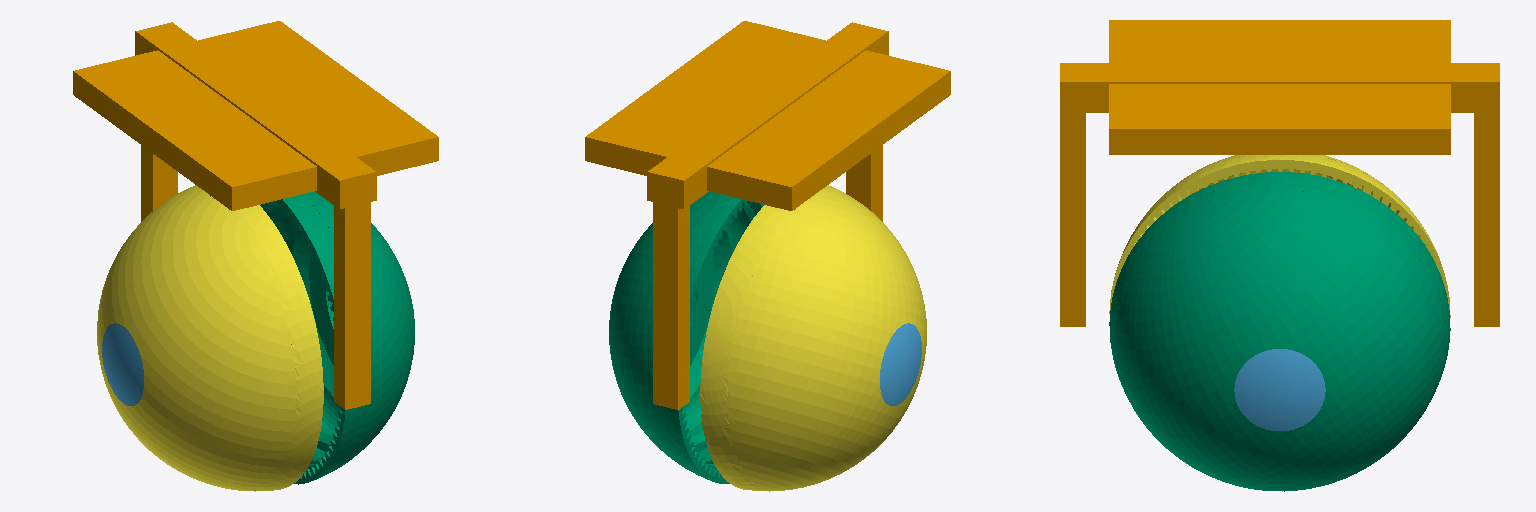
robot.urdf — active_spherical_wheel_approximate:
<?xml version='1.0' encoding='utf-8'?>
<robot name="active_spherical_wheel_approximate">
  <!--Free root fork. URDF preserves geometry, masses and 3 revolutes; moving belt surface control requires the MuJoCo simulator.-->
  <link name="fork">
    <inertial>
      <origin xyz="0 0 0.173306340455" rpy="0 0 0" />
      <mass value="1" />
      <inertia ixx="0.00721843935102" iyy="0.00296529048817" izz="0.00860039728923" ixy="0" ixz="0" iyz="0" />
    </inertial>
    <visual name="fork_arm_left">
      <origin xyz="0 0.145 0.0925" rpy="0 0 0" />
      <geometry>
        <box size="0.022 0.018 0.185" />
      </geometry>
    </visual>
    <collision name="fork_arm_left">
      <origin xyz="0 0.145 0.0925" rpy="0 0 0" />
      <geometry>
        <box size="0.022 0.018 0.185" />
      </geometry>
    </collision>
    <visual name="fork_arm_right">
      <origin xyz="0 -0.145 0.0925" rpy="0 0 0" />
      <geometry>
        <box size="0.022 0.018 0.185" />
      </geometry>
    </visual>
    <collision name="fork_arm_right">
      <origin xyz="0 -0.145 0.0925" rpy="0 0 0" />
      <geometry>
        <box size="0.022 0.018 0.185" />
      </geometry>
    </collision>
    <visual name="fork_bridge">
      <origin xyz="0 0 0.18" rpy="0 0 0" />
      <geometry>
        <box size="0.032 0.308 0.024" />
      </geometry>
    </visual>
    <collision name="fork_bridge">
      <origin xyz="0 0 0.18" rpy="0 0 0" />
      <geometry>
        <box size="0.032 0.308 0.024" />
      </geometry>
    </collision>
    <visual name="platform">
      <origin xyz="0 0 0.18" rpy="0 0 0" />
      <geometry>
        <box size="0.18 0.24 0.02" />
      </geometry>
    </visual>
    <collision name="platform">
      <origin xyz="0 0 0.18" rpy="0 0 0" />
      <geometry>
        <box size="0.18 0.24 0.02" />
      </geometry>
    </collision>
  </link>
  <link name="carrier">
    <inertial>
      <origin xyz="0 0 0" rpy="0 0 0" />
      <mass value="0.36" />
      <inertia ixx="0.000295253333298" iyy="0.00194542575563" izz="0.00194542575563" ixy="0" ixz="0" iyz="0" />
    </inertial>
    <visual name="belt_A">
      <geometry>
        <mesh filename="meshes/belt_A.obj" scale="1 1 1" />
      </geometry>
    </visual>
    <collision name="belt_A">
      <geometry>
        <mesh filename="meshes/belt_A.obj" scale="1 1 1" />
      </geometry>
    </collision>
    <visual name="belt_B">
      <geometry>
        <mesh filename="meshes/belt_B.obj" scale="1 1 1" />
      </geometry>
    </visual>
    <collision name="belt_B">
      <geometry>
        <mesh filename="meshes/belt_B.obj" scale="1 1 1" />
      </geometry>
    </collision>
    <visual name="native_carrier">
      <geometry>
        <mesh filename="meshes/native_carrier.obj" scale="1 1 1" />
      </geometry>
    </visual>
  </link>
  <link name="shell_A">
    <inertial>
      <origin xyz="0.0604911092127 0 0" rpy="0 0 0" />
      <mass value="0.15" />
      <inertia ixx="0.0013135150602" iyy="0.000784611313744" izz="0.000784611313744" ixy="0" ixz="0" iyz="0" />
    </inertial>
    <collision name="shell_A_sector_000">
      <geometry>
        <mesh filename="meshes/shell_A_sector_000.obj" scale="1 1 1" />
      </geometry>
    </collision>
    <collision name="shell_A_sector_001">
      <geometry>
        <mesh filename="meshes/shell_A_sector_001.obj" scale="1 1 1" />
      </geometry>
    </collision>
    <collision name="shell_A_sector_002">
      <geometry>
        <mesh filename="meshes/shell_A_sector_002.obj" scale="1 1 1" />
      </geometry>
    </collision>
    <collision name="shell_A_sector_003">
      <geometry>
        <mesh filename="meshes/shell_A_sector_003.obj" scale="1 1 1" />
      </geometry>
    </collision>
    <collision name="shell_A_sector_004">
      <geometry>
        <mesh filename="meshes/shell_A_sector_004.obj" scale="1 1 1" />
      </geometry>
    </collision>
    <collision name="shell_A_sector_005">
      <geometry>
        <mesh filename="meshes/shell_A_sector_005.obj" scale="1 1 1" />
      </geometry>
    </collision>
    <collision name="shell_A_sector_006">
      <geometry>
        <mesh filename="meshes/shell_A_sector_006.obj" scale="1 1 1" />
      </geometry>
    </collision>
    <collision name="shell_A_sector_007">
      <geometry>
        <mesh filename="meshes/shell_A_sector_007.obj" scale="1 1 1" />
      </geometry>
    </collision>
    <collision name="shell_A_sector_008">
      <geometry>
        <mesh filename="meshes/shell_A_sector_008.obj" scale="1 1 1" />
      </geometry>
    </collision>
    <collision name="shell_A_sector_009">
      <geometry>
        <mesh filename="meshes/shell_A_sector_009.obj" scale="1 1 1" />
      </geometry>
    </collision>
    <collision name="shell_A_sector_010">
      <geometry>
        <mesh filename="meshes/shell_A_sector_010.obj" scale="1 1 1" />
      </geometry>
    </collision>
    <collision name="shell_A_sector_011">
      <geometry>
        <mesh filename="meshes/shell_A_sector_011.obj" scale="1 1 1" />
      </geometry>
    </collision>
    <collision name="shell_A_sector_012">
      <geometry>
        <mesh filename="meshes/shell_A_sector_012.obj" scale="1 1 1" />
      </geometry>
    </collision>
    <collision name="shell_A_sector_013">
      <geometry>
        <mesh filename="meshes/shell_A_sector_013.obj" scale="1 1 1" />
      </geometry>
    </collision>
    <collision name="shell_A_sector_014">
      <geometry>
        <mesh filename="meshes/shell_A_sector_014.obj" scale="1 1 1" />
      </geometry>
    </collision>
    <collision name="shell_A_sector_015">
      <geometry>
        <mesh filename="meshes/shell_A_sector_015.obj" scale="1 1 1" />
      </geometry>
    </collision>
    <collision name="shell_A_sector_016">
      <geometry>
        <mesh filename="meshes/shell_A_sector_016.obj" scale="1 1 1" />
      </geometry>
    </collision>
    <collision name="shell_A_sector_017">
      <geometry>
        <mesh filename="meshes/shell_A_sector_017.obj" scale="1 1 1" />
      </geometry>
    </collision>
    <collision name="shell_A_sector_018">
      <geometry>
        <mesh filename="meshes/shell_A_sector_018.obj" scale="1 1 1" />
      </geometry>
    </collision>
    <collision name="shell_A_sector_019">
      <geometry>
        <mesh filename="meshes/shell_A_sector_019.obj" scale="1 1 1" />
      </geometry>
    </collision>
    <collision name="shell_A_sector_020">
      <geometry>
        <mesh filename="meshes/shell_A_sector_020.obj" scale="1 1 1" />
      </geometry>
    </collision>
    <collision name="shell_A_sector_021">
      <geometry>
        <mesh filename="meshes/shell_A_sector_021.obj" scale="1 1 1" />
      </geometry>
    </collision>
    <collision name="shell_A_sector_022">
      <geometry>
        <mesh filename="meshes/shell_A_sector_022.obj" scale="1 1 1" />
      </geometry>
    </collision>
    <collision name="shell_A_sector_023">
      <geometry>
        <mesh filename="meshes/shell_A_sector_023.obj" scale="1 1 1" />
      </geometry>
    </collision>
    <collision name="shell_A_sector_024">
      <geometry>
        <mesh filename="meshes/shell_A_sector_024.obj" scale="1 1 1" />
      </geometry>
    </collision>
    <collision name="shell_A_sector_025">
      <geometry>
        <mesh filename="meshes/shell_A_sector_025.obj" scale="1 1 1" />
      </geometry>
    </collision>
    <collision name="shell_A_sector_026">
      <geometry>
        <mesh filename="meshes/shell_A_sector_026.obj" scale="1 1 1" />
      </geometry>
    </collision>
    <collision name="shell_A_sector_027">
      <geometry>
        <mesh filename="meshes/shell_A_sector_027.obj" scale="1 1 1" />
      </geometry>
    </collision>
    <collision name="shell_A_sector_028">
      <geometry>
        <mesh filename="meshes/shell_A_sector_028.obj" scale="1 1 1" />
      </geometry>
    </collision>
    <collision name="shell_A_sector_029">
      <geometry>
        <mesh filename="meshes/shell_A_sector_029.obj" scale="1 1 1" />
      </geometry>
    </collision>
    <collision name="shell_A_sector_030">
      <geometry>
        <mesh filename="meshes/shell_A_sector_030.obj" scale="1 1 1" />
      </geometry>
    </collision>
    <collision name="shell_A_sector_031">
      <geometry>
        <mesh filename="meshes/shell_A_sector_031.obj" scale="1 1 1" />
      </geometry>
    </collision>
    <collision name="shell_A_sector_032">
      <geometry>
        <mesh filename="meshes/shell_A_sector_032.obj" scale="1 1 1" />
      </geometry>
    </collision>
    <collision name="shell_A_sector_033">
      <geometry>
        <mesh filename="meshes/shell_A_sector_033.obj" scale="1 1 1" />
      </geometry>
    </collision>
    <collision name="shell_A_sector_034">
      <geometry>
        <mesh filename="meshes/shell_A_sector_034.obj" scale="1 1 1" />
      </geometry>
    </collision>
    <collision name="shell_A_sector_035">
      <geometry>
        <mesh filename="meshes/shell_A_sector_035.obj" scale="1 1 1" />
      </geometry>
    </collision>
    <collision name="shell_A_sector_036">
      <geometry>
        <mesh filename="meshes/shell_A_sector_036.obj" scale="1 1 1" />
      </geometry>
    </collision>
    <collision name="shell_A_sector_037">
      <geometry>
        <mesh filename="meshes/shell_A_sector_037.obj" scale="1 1 1" />
      </geometry>
    </collision>
    <collision name="shell_A_sector_038">
      <geometry>
        <mesh filename="meshes/shell_A_sector_038.obj" scale="1 1 1" />
      </geometry>
    </collision>
    <collision name="shell_A_sector_039">
      <geometry>
        <mesh filename="meshes/shell_A_sector_039.obj" scale="1 1 1" />
      </geometry>
    </collision>
    <collision name="shell_A_sector_040">
      <geometry>
        <mesh filename="meshes/shell_A_sector_040.obj" scale="1 1 1" />
      </geometry>
    </collision>
    <collision name="shell_A_sector_041">
      <geometry>
        <mesh filename="meshes/shell_A_sector_041.obj" scale="1 1 1" />
      </geometry>
    </collision>
    <collision name="shell_A_sector_042">
      <geometry>
        <mesh filename="meshes/shell_A_sector_042.obj" scale="1 1 1" />
      </geometry>
    </collision>
    <collision name="shell_A_sector_043">
      <geometry>
        <mesh filename="meshes/shell_A_sector_043.obj" scale="1 1 1" />
      </geometry>
    </collision>
    <collision name="shell_A_sector_044">
      <geometry>
        <mesh filename="meshes/shell_A_sector_044.obj" scale="1 1 1" />
      </geometry>
    </collision>
    <collision name="shell_A_sector_045">
      <geometry>
        <mesh filename="meshes/shell_A_sector_045.obj" scale="1 1 1" />
      </geometry>
    </collision>
    <collision name="shell_A_sector_046">
      <geometry>
        <mesh filename="meshes/shell_A_sector_046.obj" scale="1 1 1" />
      </geometry>
    </collision>
    <collision name="shell_A_sector_047">
      <geometry>
        <mesh filename="meshes/shell_A_sector_047.obj" scale="1 1 1" />
      </geometry>
    </collision>
    <visual name="native_shell_A">
      <geometry>
        <mesh filename="meshes/native_shell_positive.obj" scale="1 1 1" />
      </geometry>
    </visual>
  </link>
  <link name="shell_B">
    <inertial>
      <origin xyz="-0.0604911092127 0 0" rpy="0 0 0" />
      <mass value="0.15" />
      <inertia ixx="0.0013135150602" iyy="0.000784611313744" izz="0.000784611313744" ixy="0" ixz="0" iyz="0" />
    </inertial>
    <collision name="shell_B_sector_000">
      <geometry>
        <mesh filename="meshes/shell_B_sector_000.obj" scale="1 1 1" />
      </geometry>
    </collision>
    <collision name="shell_B_sector_001">
      <geometry>
        <mesh filename="meshes/shell_B_sector_001.obj" scale="1 1 1" />
      </geometry>
    </collision>
    <collision name="shell_B_sector_002">
      <geometry>
        <mesh filename="meshes/shell_B_sector_002.obj" scale="1 1 1" />
      </geometry>
    </collision>
    <collision name="shell_B_sector_003">
      <geometry>
        <mesh filename="meshes/shell_B_sector_003.obj" scale="1 1 1" />
      </geometry>
    </collision>
    <collision name="shell_B_sector_004">
      <geometry>
        <mesh filename="meshes/shell_B_sector_004.obj" scale="1 1 1" />
      </geometry>
    </collision>
    <collision name="shell_B_sector_005">
      <geometry>
        <mesh filename="meshes/shell_B_sector_005.obj" scale="1 1 1" />
      </geometry>
    </collision>
    <collision name="shell_B_sector_006">
      <geometry>
        <mesh filename="meshes/shell_B_sector_006.obj" scale="1 1 1" />
      </geometry>
    </collision>
    <collision name="shell_B_sector_007">
      <geometry>
        <mesh filename="meshes/shell_B_sector_007.obj" scale="1 1 1" />
      </geometry>
    </collision>
    <collision name="shell_B_sector_008">
      <geometry>
        <mesh filename="meshes/shell_B_sector_008.obj" scale="1 1 1" />
      </geometry>
    </collision>
    <collision name="shell_B_sector_009">
      <geometry>
        <mesh filename="meshes/shell_B_sector_009.obj" scale="1 1 1" />
      </geometry>
    </collision>
    <collision name="shell_B_sector_010">
      <geometry>
        <mesh filename="meshes/shell_B_sector_010.obj" scale="1 1 1" />
      </geometry>
    </collision>
    <collision name="shell_B_sector_011">
      <geometry>
        <mesh filename="meshes/shell_B_sector_011.obj" scale="1 1 1" />
      </geometry>
    </collision>
    <collision name="shell_B_sector_012">
      <geometry>
        <mesh filename="meshes/shell_B_sector_012.obj" scale="1 1 1" />
      </geometry>
    </collision>
    <collision name="shell_B_sector_013">
      <geometry>
        <mesh filename="meshes/shell_B_sector_013.obj" scale="1 1 1" />
      </geometry>
    </collision>
    <collision name="shell_B_sector_014">
      <geometry>
        <mesh filename="meshes/shell_B_sector_014.obj" scale="1 1 1" />
      </geometry>
    </collision>
    <collision name="shell_B_sector_015">
      <geometry>
        <mesh filename="meshes/shell_B_sector_015.obj" scale="1 1 1" />
      </geometry>
    </collision>
    <collision name="shell_B_sector_016">
      <geometry>
        <mesh filename="meshes/shell_B_sector_016.obj" scale="1 1 1" />
      </geometry>
    </collision>
    <collision name="shell_B_sector_017">
      <geometry>
        <mesh filename="meshes/shell_B_sector_017.obj" scale="1 1 1" />
      </geometry>
    </collision>
    <collision name="shell_B_sector_018">
      <geometry>
        <mesh filename="meshes/shell_B_sector_018.obj" scale="1 1 1" />
      </geometry>
    </collision>
    <collision name="shell_B_sector_019">
      <geometry>
        <mesh filename="meshes/shell_B_sector_019.obj" scale="1 1 1" />
      </geometry>
    </collision>
    <collision name="shell_B_sector_020">
      <geometry>
        <mesh filename="meshes/shell_B_sector_020.obj" scale="1 1 1" />
      </geometry>
    </collision>
    <collision name="shell_B_sector_021">
      <geometry>
        <mesh filename="meshes/shell_B_sector_021.obj" scale="1 1 1" />
      </geometry>
    </collision>
    <collision name="shell_B_sector_022">
      <geometry>
        <mesh filename="meshes/shell_B_sector_022.obj" scale="1 1 1" />
      </geometry>
    </collision>
    <collision name="shell_B_sector_023">
      <geometry>
        <mesh filename="meshes/shell_B_sector_023.obj" scale="1 1 1" />
      </geometry>
    </collision>
    <collision name="shell_B_sector_024">
      <geometry>
        <mesh filename="meshes/shell_B_sector_024.obj" scale="1 1 1" />
      </geometry>
    </collision>
    <collision name="shell_B_sector_025">
      <geometry>
        <mesh filename="meshes/shell_B_sector_025.obj" scale="1 1 1" />
      </geometry>
    </collision>
    <collision name="shell_B_sector_026">
      <geometry>
        <mesh filename="meshes/shell_B_sector_026.obj" scale="1 1 1" />
      </geometry>
    </collision>
    <collision name="shell_B_sector_027">
      <geometry>
        <mesh filename="meshes/shell_B_sector_027.obj" scale="1 1 1" />
      </geometry>
    </collision>
    <collision name="shell_B_sector_028">
      <geometry>
        <mesh filename="meshes/shell_B_sector_028.obj" scale="1 1 1" />
      </geometry>
    </collision>
    <collision name="shell_B_sector_029">
      <geometry>
        <mesh filename="meshes/shell_B_sector_029.obj" scale="1 1 1" />
      </geometry>
    </collision>
    <collision name="shell_B_sector_030">
      <geometry>
        <mesh filename="meshes/shell_B_sector_030.obj" scale="1 1 1" />
      </geometry>
    </collision>
    <collision name="shell_B_sector_031">
      <geometry>
        <mesh filename="meshes/shell_B_sector_031.obj" scale="1 1 1" />
      </geometry>
    </collision>
    <collision name="shell_B_sector_032">
      <geometry>
        <mesh filename="meshes/shell_B_sector_032.obj" scale="1 1 1" />
      </geometry>
    </collision>
    <collision name="shell_B_sector_033">
      <geometry>
        <mesh filename="meshes/shell_B_sector_033.obj" scale="1 1 1" />
      </geometry>
    </collision>
    <collision name="shell_B_sector_034">
      <geometry>
        <mesh filename="meshes/shell_B_sector_034.obj" scale="1 1 1" />
      </geometry>
    </collision>
    <collision name="shell_B_sector_035">
      <geometry>
        <mesh filename="meshes/shell_B_sector_035.obj" scale="1 1 1" />
      </geometry>
    </collision>
    <collision name="shell_B_sector_036">
      <geometry>
        <mesh filename="meshes/shell_B_sector_036.obj" scale="1 1 1" />
      </geometry>
    </collision>
    <collision name="shell_B_sector_037">
      <geometry>
        <mesh filename="meshes/shell_B_sector_037.obj" scale="1 1 1" />
      </geometry>
    </collision>
    <collision name="shell_B_sector_038">
      <geometry>
        <mesh filename="meshes/shell_B_sector_038.obj" scale="1 1 1" />
      </geometry>
    </collision>
    <collision name="shell_B_sector_039">
      <geometry>
        <mesh filename="meshes/shell_B_sector_039.obj" scale="1 1 1" />
      </geometry>
    </collision>
    <collision name="shell_B_sector_040">
      <geometry>
        <mesh filename="meshes/shell_B_sector_040.obj" scale="1 1 1" />
      </geometry>
    </collision>
    <collision name="shell_B_sector_041">
      <geometry>
        <mesh filename="meshes/shell_B_sector_041.obj" scale="1 1 1" />
      </geometry>
    </collision>
    <collision name="shell_B_sector_042">
      <geometry>
        <mesh filename="meshes/shell_B_sector_042.obj" scale="1 1 1" />
      </geometry>
    </collision>
    <collision name="shell_B_sector_043">
      <geometry>
        <mesh filename="meshes/shell_B_sector_043.obj" scale="1 1 1" />
      </geometry>
    </collision>
    <collision name="shell_B_sector_044">
      <geometry>
        <mesh filename="meshes/shell_B_sector_044.obj" scale="1 1 1" />
      </geometry>
    </collision>
    <collision name="shell_B_sector_045">
      <geometry>
        <mesh filename="meshes/shell_B_sector_045.obj" scale="1 1 1" />
      </geometry>
    </collision>
    <collision name="shell_B_sector_046">
      <geometry>
        <mesh filename="meshes/shell_B_sector_046.obj" scale="1 1 1" />
      </geometry>
    </collision>
    <collision name="shell_B_sector_047">
      <geometry>
        <mesh filename="meshes/shell_B_sector_047.obj" scale="1 1 1" />
      </geometry>
    </collision>
    <visual name="native_shell_B">
      <geometry>
        <mesh filename="meshes/native_shell_negative.obj" scale="1 1 1" />
      </geometry>
    </visual>
  </link>
  <joint name="shaft" type="continuous">
    <parent link="fork" />
    <child link="carrier" />
    <origin xyz="0 0 0" rpy="0 0 0" />
    <axis xyz="0 1 0" />
    <limit effort="1.5" velocity="100" />
    <dynamics damping="0.0001" friction="0" />
  </joint>
  <joint name="shell_A_joint" type="continuous">
    <parent link="carrier" />
    <child link="shell_A" />
    <origin xyz="0 0 0" rpy="0 0 0" />
    <axis xyz="1 0 0" />
    <limit effort="0.6" velocity="100" />
    <dynamics damping="0.0001" friction="0" />
  </joint>
  <joint name="shell_B_joint" type="continuous">
    <parent link="carrier" />
    <child link="shell_B" />
    <origin xyz="0 0 0" rpy="0 0 0" />
    <axis xyz="1 0 0" />
    <limit effort="0.6" velocity="100" />
    <dynamics damping="0.0001" friction="0" />
  </joint>
</robot>

--- What the picture shows (computed from the rendered views, not written in the file) ---
Views: 3 orthographic renders of the robot side by side, from view 1: azimuth 30°, elevation 25°; view 2: azimuth 150°, elevation 25°; view 3: azimuth 270°, elevation 25°.
Model active_spherical_wheel_approximate with 4 links and 3 joints (3 continuous), rooted at fork, posed all joints at 0.
Visible links, largest first — view 1: fork, shell_B, shell_A, carrier; view 2: fork, shell_B, shell_A, carrier; view 3: shell_A, fork, shell_B, carrier.
Boxes of the visible links, x1=… form: fork: x1=73, y1=21, x2=438, y2=409; shell_B: x1=97, y1=185, x2=323, y2=491; shell_A: x1=260, y1=191, x2=414, y2=484; carrier: x1=102, y1=323, x2=143, y2=405; fork: x1=585, y1=21, x2=950, y2=409; shell_B: x1=700, y1=185, x2=926, y2=491; shell_A: x1=609, y1=191, x2=763, y2=483; carrier: x1=880, y1=323, x2=921, y2=405; shell_A: x1=1109, y1=172, x2=1450, y2=491; fork: x1=1060, y1=20, x2=1499, y2=326; shell_B: x1=1109, y1=155, x2=1450, y2=317; carrier: x1=1234, y1=349, x2=1325, y2=430.
Size in the robot's own frame: 0.24 by 0.308 by 0.3116 metres.
4 mesh visuals loaded from 5 distinct referenced files (4 OBJ); not drawn: 1 (reference not matched to a file when rendering).
